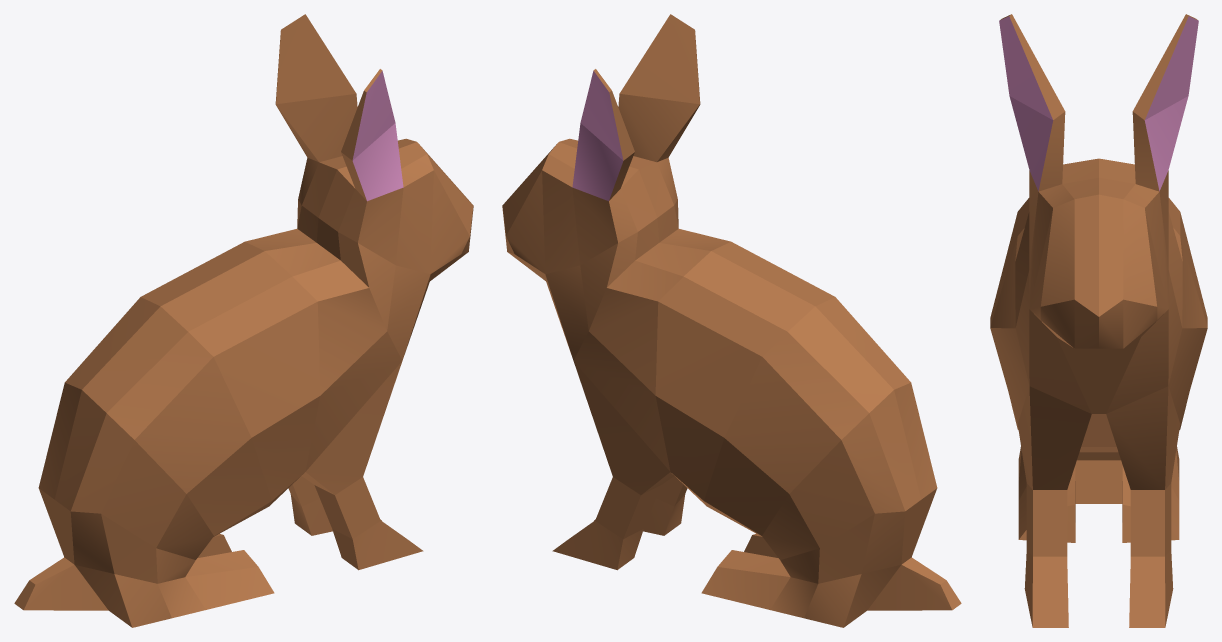
File: rabbit.dae
3 views of the same model, side by side, from view 1: azimuth 30°, elevation 25°; view 2: azimuth 150°, elevation 25°; view 3: azimuth 270°, elevation 25° (orthographic). The views are drawn at different scales.
Parts seen in each view (by area): view 1: Rabbit; view 2: Rabbit; view 3: Rabbit.
Part boxes in pixels (<box>): Rabbit: <box>14,14,473,627</box>; Rabbit: <box>502,14,961,627</box>; Rabbit: <box>990,14,1207,627</box>.
Size of the model in its own units: 0.2837 by 0.1009 by 0.299.
